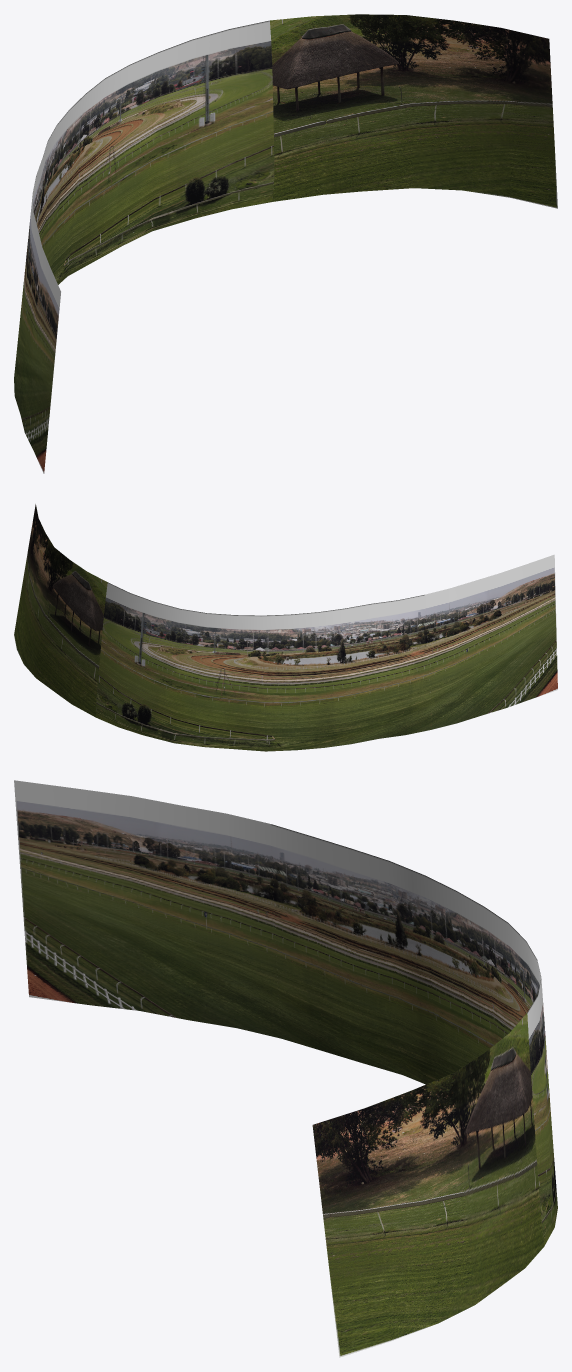
File: 1000mCornerStart_4_Images.fbx
3 renders of one model, top to bottom at view 1: azimuth 30°, elevation 25°; view 2: azimuth 150°, elevation 25°; view 3: azimuth 270°, elevation 25°, orthographic. The views are drawn at different scales.
Visible parts, largest first — view 1: Tower1000:Tower1000; view 2: Tower1000:Tower1000; view 3: Tower1000:Tower1000.
Boxes of the visible parts, x1,y1,x2,y2 form: Tower1000:Tower1000: [14, 14, 557, 473]; Tower1000:Tower1000: [14, 504, 557, 751]; Tower1000:Tower1000: [14, 780, 557, 1357].
Size of the model in its own units: 75.52 by 22.45 by 45.82.
